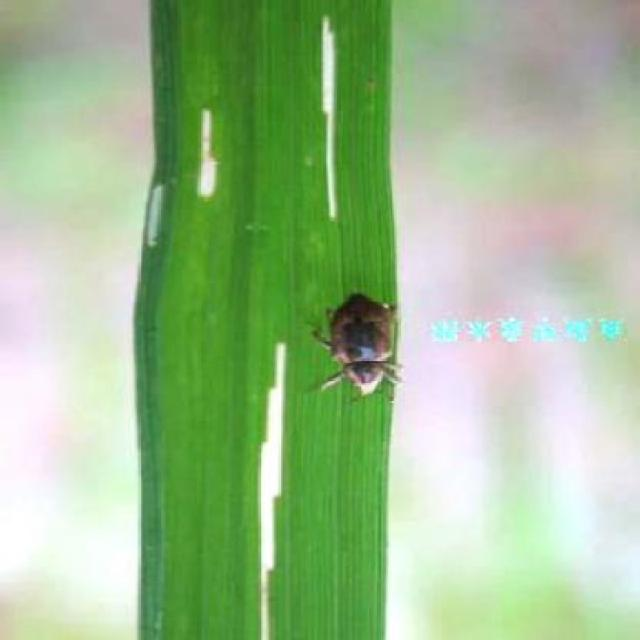rice-bug: (300, 284, 420, 408)
